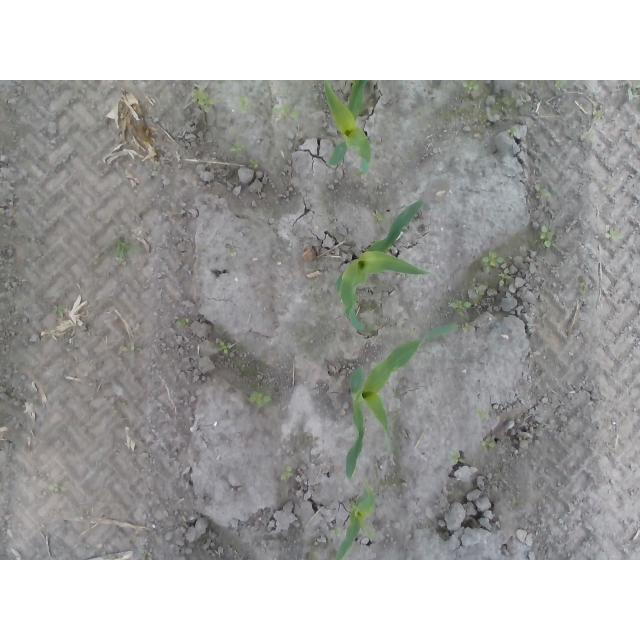Maize: (347, 324, 460, 481), (336, 199, 434, 334), (321, 81, 373, 176), (334, 492, 379, 561)
Weeds: (98, 235, 142, 264), (192, 93, 215, 112), (482, 252, 506, 270), (247, 392, 273, 408), (449, 300, 471, 317), (273, 105, 299, 119), (535, 183, 554, 201), (237, 95, 254, 115), (540, 227, 555, 247), (481, 437, 495, 456), (279, 466, 294, 482), (218, 341, 235, 355), (451, 451, 466, 466), (476, 406, 490, 422), (365, 527, 379, 543), (461, 81, 479, 93), (605, 228, 623, 240), (124, 342, 142, 354), (628, 82, 640, 99), (498, 269, 512, 283), (230, 142, 244, 154), (249, 159, 262, 169), (175, 320, 189, 329), (580, 281, 589, 295), (55, 306, 69, 315), (554, 81, 566, 91), (50, 486, 63, 495), (331, 526, 342, 536), (584, 132, 596, 141), (509, 128, 519, 137), (598, 111, 607, 120), (375, 210, 384, 219)
